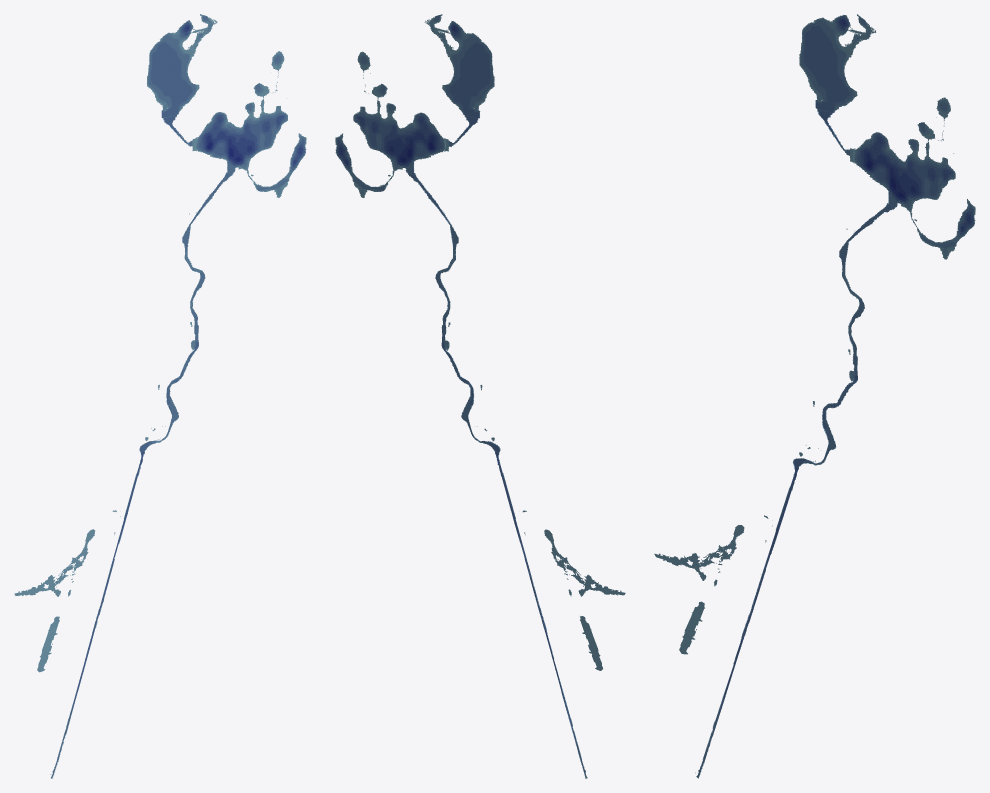
File: triangle_mesh.glb
3 renders of one model, left to right at view 1: azimuth 30°, elevation 25°; view 2: azimuth 150°, elevation 25°; view 3: azimuth 330°, elevation 25°, orthographic. The views are drawn at different scales.
Parts seen in each view (by area): view 1: world; view 2: world; view 3: world.
Part boxes in pixels (left/top/right/bottom): world: left=14, top=14, right=306, bottom=778; world: left=335, top=14, right=625, bottom=778; world: left=654, top=14, right=975, bottom=778.
Bounding box in the file's own units: 1146 × 2739 × 14.13.
